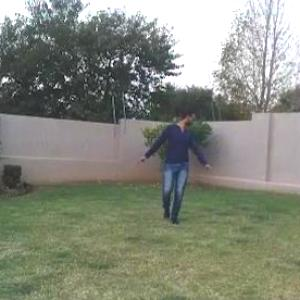land: (138, 98, 220, 228)
